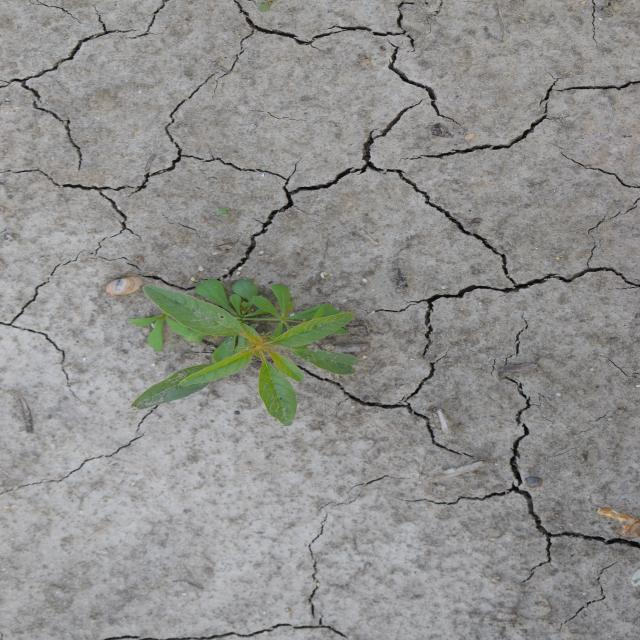Carpetweed: (125, 271, 352, 364)
Waterhemp: (128, 284, 364, 428)
